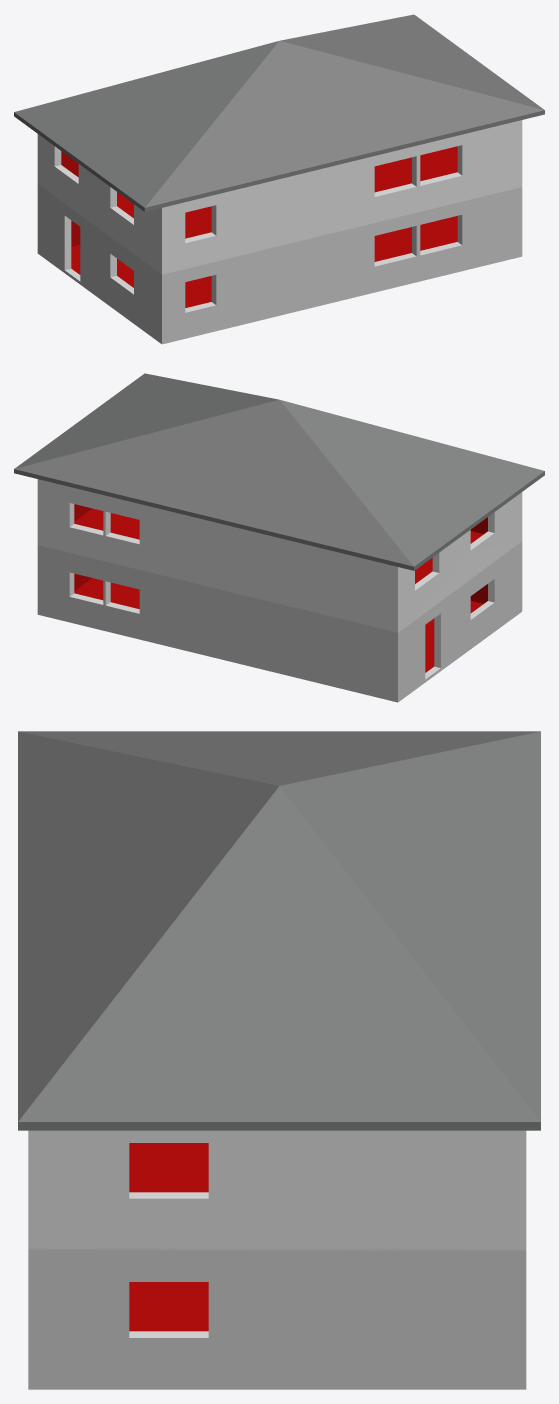
Rendered from house.fbx.
3 renders of one model, top to bottom at view 1: azimuth 30°, elevation 25°; view 2: azimuth 150°, elevation 25°; view 3: azimuth 270°, elevation 25°, orthographic. The views are drawn at different scales.
Visible parts, largest first — view 1: JoinedWall; view 2: JoinedWall; view 3: JoinedWall.
Part boxes in pixels (<box>): JoinedWall: <box>14,14,544,344</box>; JoinedWall: <box>14,373,544,702</box>; JoinedWall: <box>18,731,540,1389</box>.
Bounding box in the file's own units: 1190 × 607 × 673.
